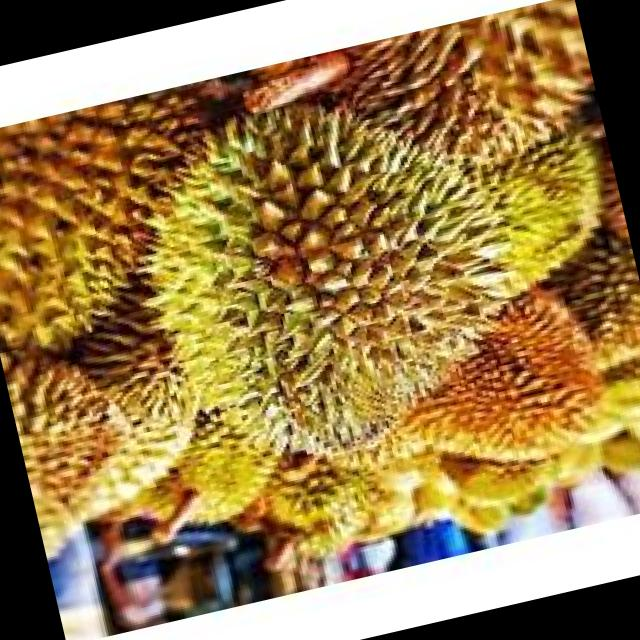fruit: (0, 312, 166, 582)
